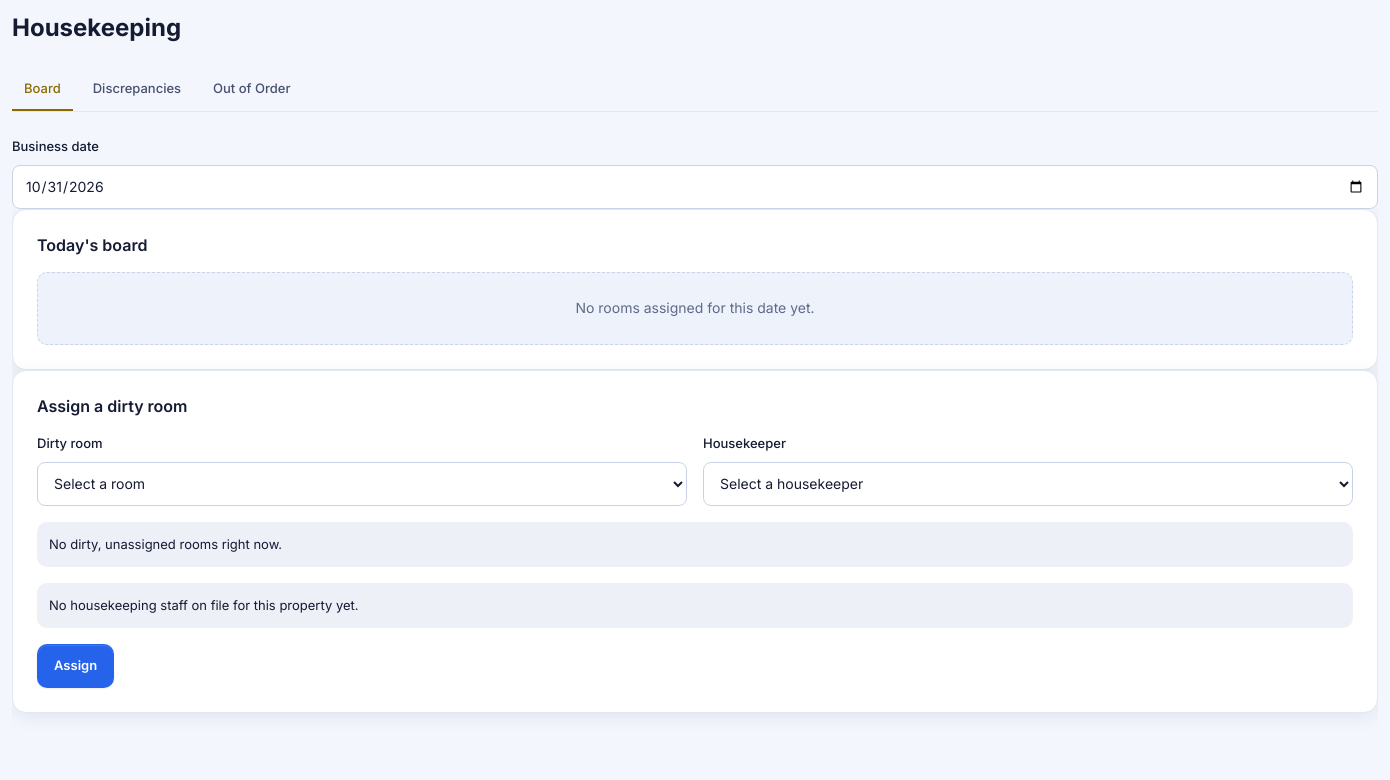
Test: <HousekeepingScreen> › switches to the Out of Order tab and loads it
Click the tab "Out of Order". click: (252, 89)
box: [201,67,302,111]
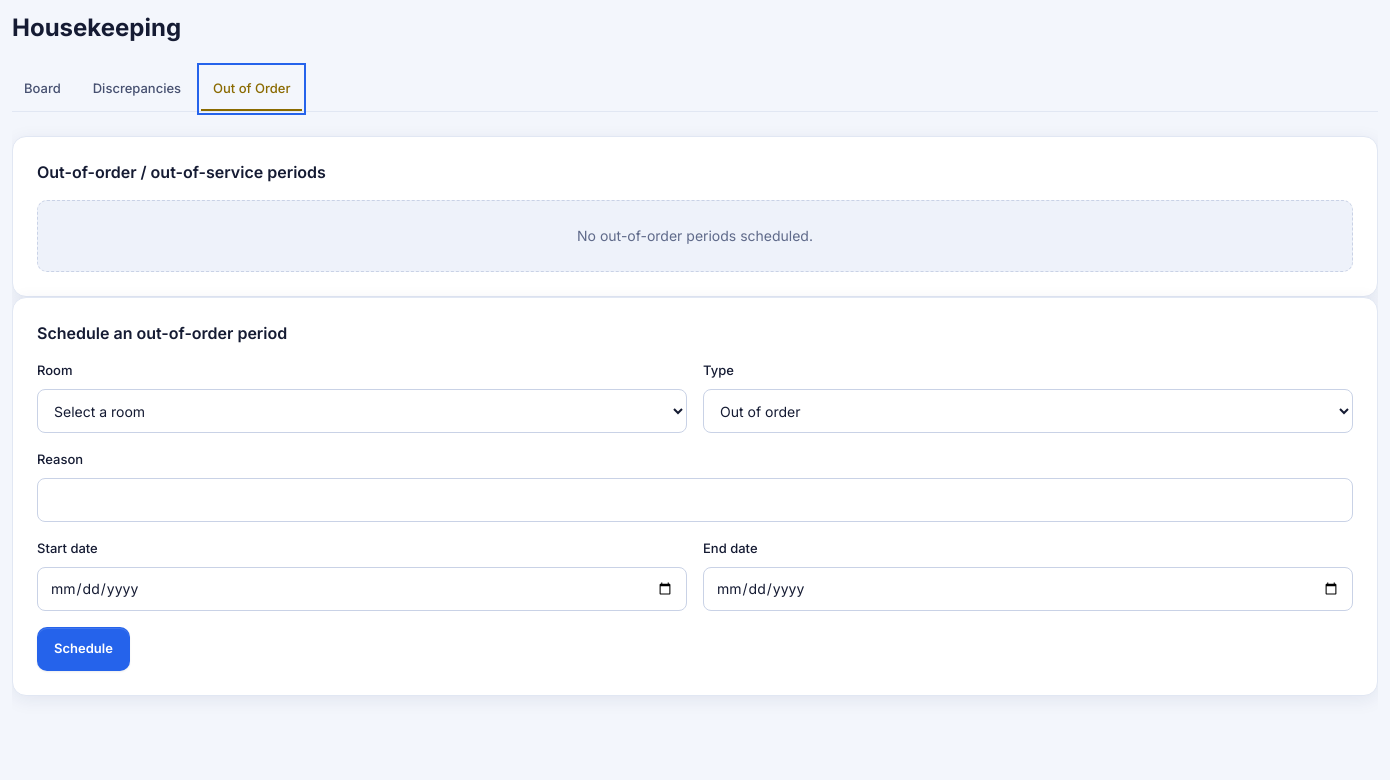
Expected: the text "No out-of-order periods scheduled." is shown, [577,225,813,247]
